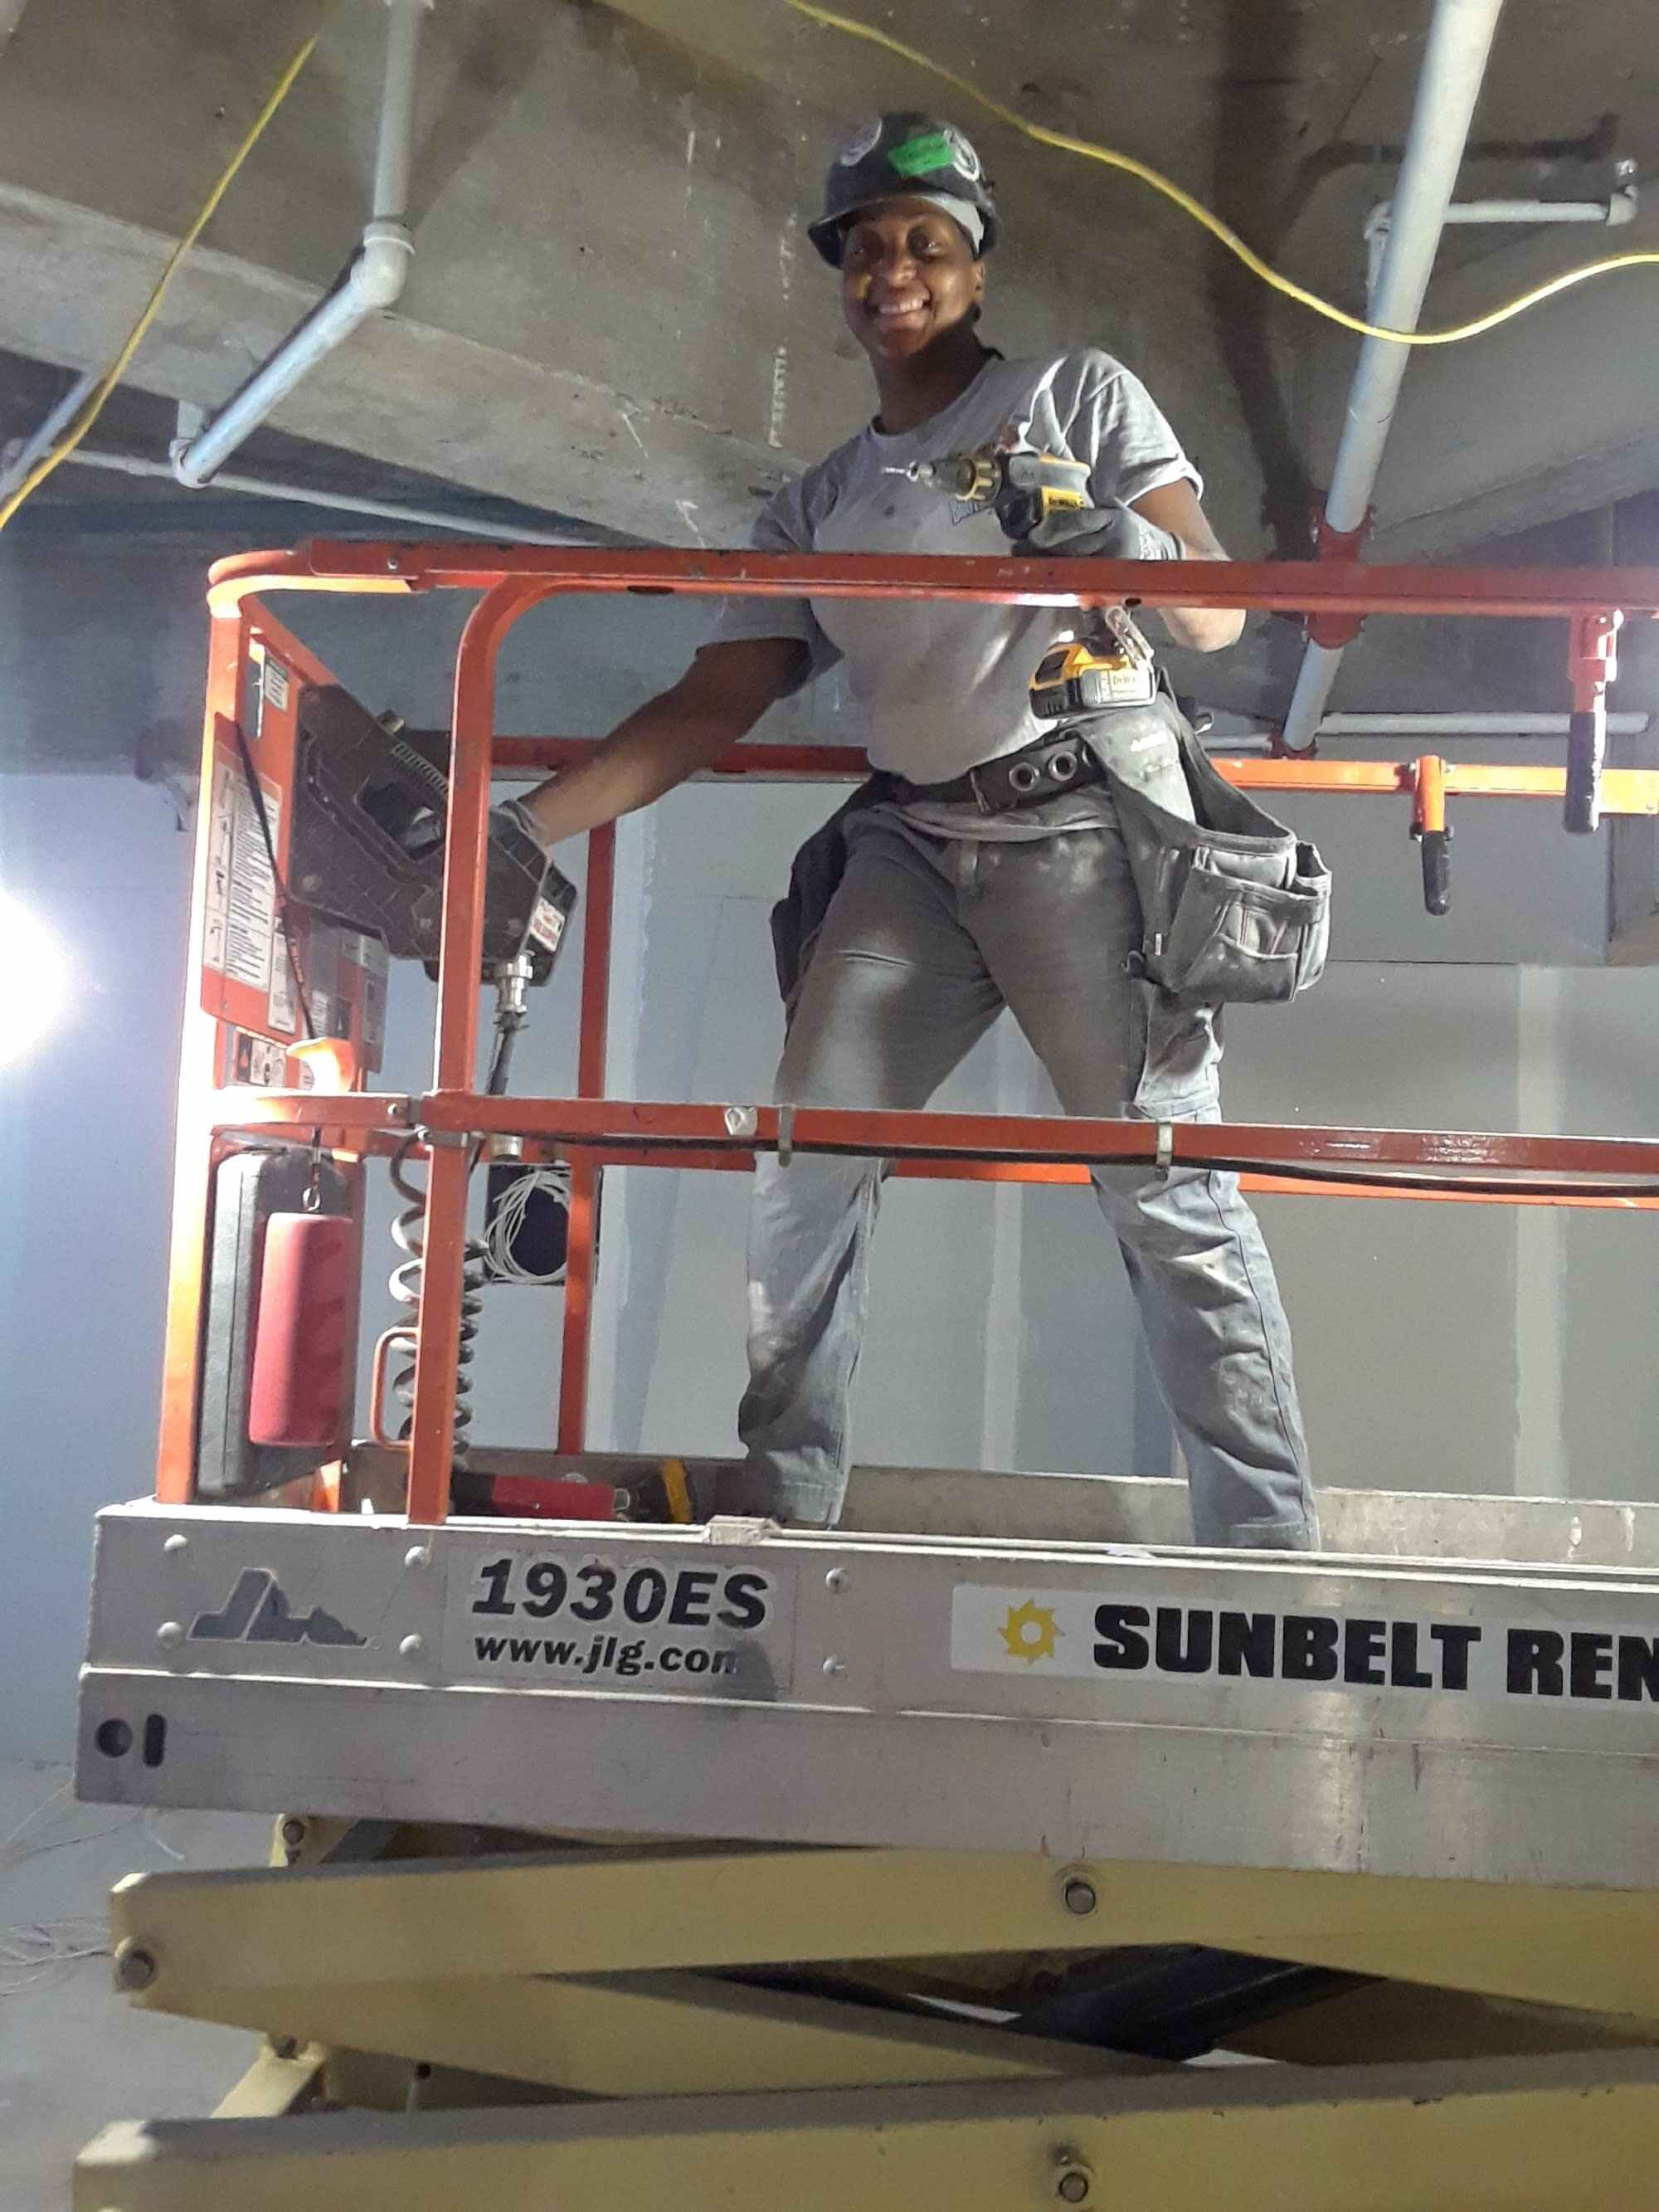hard hat: (812, 119, 990, 261)
